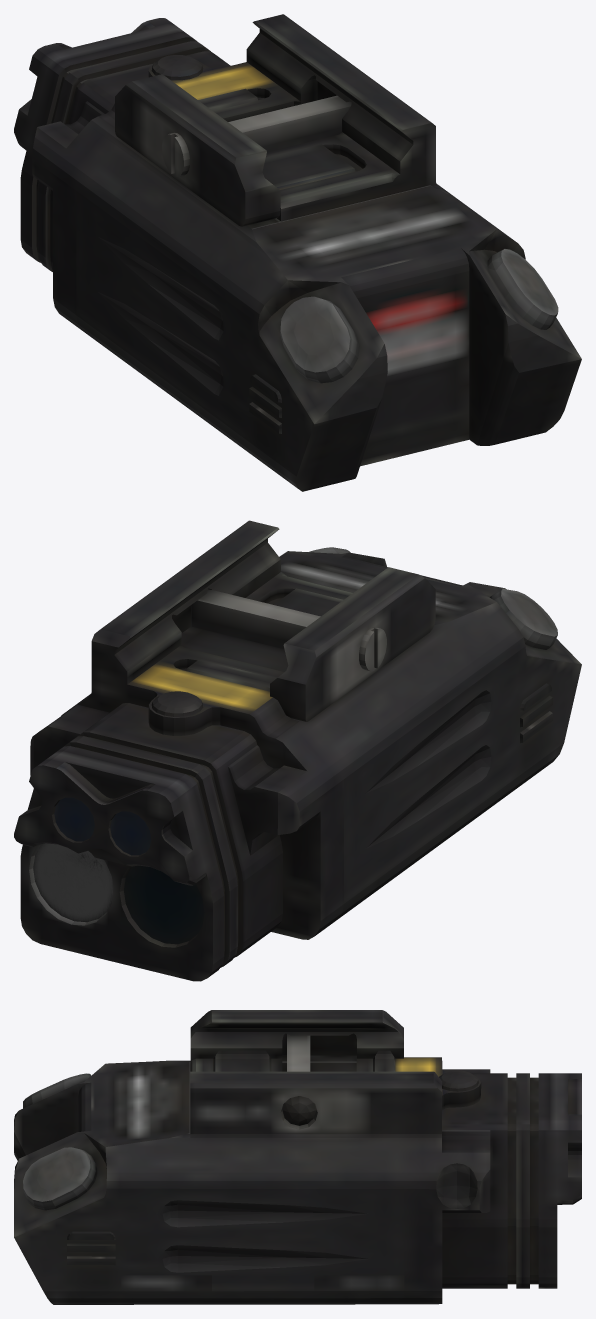
3 views of the same model, one above another, from view 1: azimuth 30°, elevation 25°; view 2: azimuth 150°, elevation 25°; view 3: azimuth 270°, elevation 25° (orthographic). The views are drawn at different scales.
Parts seen in each view (by area): view 1: TW_5d2369418abbc306c62e0c80_PZ_Import; view 2: TW_5d2369418abbc306c62e0c80_PZ_Import; view 3: TW_5d2369418abbc306c62e0c80_PZ_Import.
Boxes of the visible parts, x1,y1,x2,y2 form: TW_5d2369418abbc306c62e0c80_PZ_Import: (14, 14, 581, 491); TW_5d2369418abbc306c62e0c80_PZ_Import: (14, 520, 581, 981); TW_5d2369418abbc306c62e0c80_PZ_Import: (14, 1010, 581, 1304).
Bounding box in the file's own units: 0.023 × 0.0505 × 0.0209.
1 material, 1 textured.
